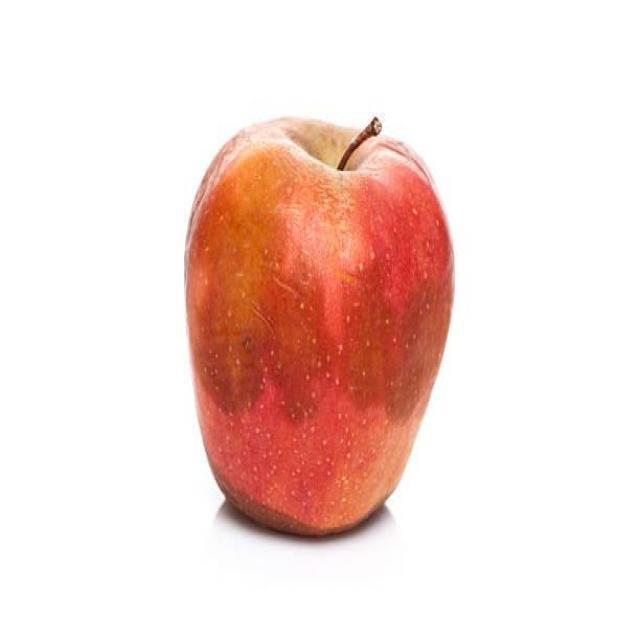Rotten: (176, 117, 450, 537)
